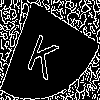K: (25, 25, 63, 81)
